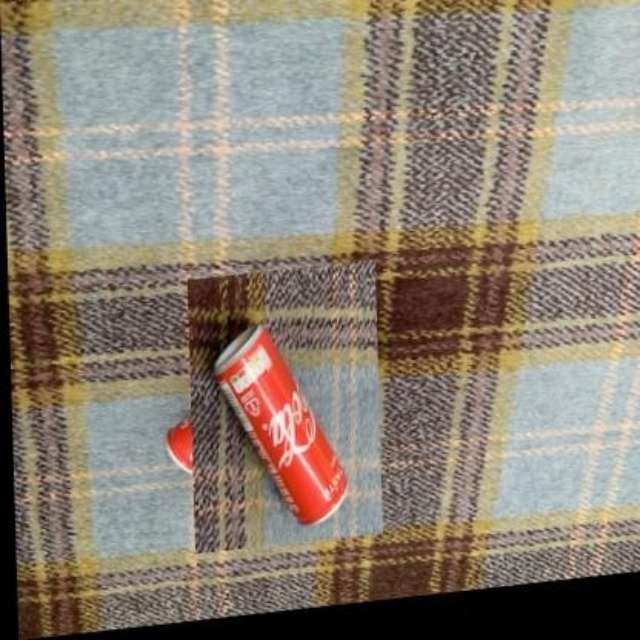trash: (214, 325, 346, 523)
